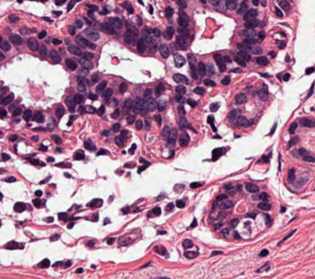nucleus: (143, 28, 156, 51), (75, 35, 95, 48), (278, 229, 295, 244), (124, 28, 137, 44), (213, 54, 225, 71), (132, 98, 144, 112), (233, 115, 248, 126), (239, 28, 255, 38), (122, 98, 132, 114), (167, 128, 177, 144), (228, 108, 240, 121), (174, 53, 185, 67), (79, 58, 93, 69), (145, 97, 156, 111), (65, 96, 75, 111), (49, 50, 61, 62), (178, 117, 190, 129), (237, 50, 250, 61), (85, 30, 99, 40), (176, 35, 186, 49), (173, 73, 187, 83), (207, 116, 216, 131), (164, 26, 174, 39), (159, 44, 169, 57), (237, 42, 251, 51), (68, 46, 82, 55), (258, 86, 267, 100), (300, 118, 314, 127), (234, 55, 245, 66), (65, 59, 76, 70), (84, 139, 95, 150), (28, 38, 38, 50), (137, 38, 145, 53), (87, 199, 102, 207), (220, 199, 232, 209), (179, 133, 188, 146), (245, 183, 258, 192), (197, 62, 205, 76), (190, 64, 198, 78), (96, 81, 106, 92), (235, 93, 246, 103), (287, 137, 298, 147), (256, 56, 268, 65), (155, 83, 164, 95), (103, 88, 112, 100), (157, 99, 166, 111), (212, 148, 221, 160), (258, 201, 270, 210), (257, 262, 269, 271), (161, 126, 169, 139), (33, 112, 43, 122), (55, 106, 64, 117), (38, 258, 49, 267), (250, 46, 262, 54), (154, 246, 166, 254), (48, 117, 55, 130), (175, 85, 185, 94), (73, 94, 83, 103), (67, 115, 76, 125), (115, 136, 124, 146), (74, 150, 84, 159), (138, 163, 148, 172), (182, 239, 192, 248), (206, 64, 214, 75), (204, 78, 215, 86), (193, 86, 204, 94), (143, 88, 151, 99), (289, 122, 297, 133), (288, 168, 294, 182), (185, 251, 197, 258), (221, 76, 230, 85), (257, 31, 265, 41), (187, 53, 195, 63), (78, 68, 88, 76), (85, 105, 95, 113), (51, 135, 61, 143), (30, 159, 43, 165), (82, 52, 93, 59), (178, 105, 185, 116), (269, 123, 276, 134), (152, 28, 160, 37), (243, 38, 255, 44), (77, 82, 85, 91), (187, 98, 196, 106), (210, 103, 219, 111), (111, 109, 119, 118), (126, 115, 135, 123), (58, 212, 67, 220), (230, 218, 238, 227), (39, 45, 46, 55), (119, 83, 126, 93), (97, 105, 104, 115), (154, 114, 161, 124), (135, 119, 142, 129), (56, 162, 70, 167), (96, 149, 107, 155), (308, 83, 313, 96), (38, 30, 46, 38), (175, 94, 183, 102), (112, 123, 120, 131), (152, 207, 160, 215), (91, 74, 98, 83), (88, 93, 97, 100), (129, 144, 136, 153), (33, 198, 40, 207), (216, 194, 226, 200), (264, 215, 270, 225), (119, 238, 129, 244), (305, 67, 313, 74), (298, 148, 306, 155), (259, 192, 267, 199), (176, 200, 184, 207), (259, 249, 267, 256), (303, 156, 314, 161), (190, 182, 201, 187), (52, 38, 61, 44), (40, 177, 49, 183), (224, 184, 233, 190), (190, 218, 196, 227), (50, 234, 59, 240), (120, 130, 127, 137), (166, 203, 172, 211), (246, 213, 255, 218), (211, 251, 222, 255), (279, 41, 285, 48), (223, 56, 230, 62), (283, 73, 289, 80), (78, 105, 84, 112), (35, 190, 42, 196), (122, 206, 128, 213), (221, 229, 227, 236), (107, 238, 114, 244), (75, 267, 82, 273), (145, 120, 149, 129), (262, 156, 268, 162), (233, 232, 239, 238), (102, 130, 109, 135), (39, 145, 46, 150), (65, 260, 70, 267), (45, 217, 53, 221), (32, 135, 37, 141), (280, 206, 285, 212), (92, 214, 97, 220), (68, 222, 73, 228), (158, 230, 165, 234), (231, 69, 240, 72), (285, 55, 289, 61), (47, 157, 53, 161), (64, 173, 70, 177), (261, 73, 268, 76), (54, 262, 61, 265), (215, 224, 220, 228), (87, 242, 92, 246), (214, 135, 220, 138), (65, 39, 69, 43), (270, 52, 274, 55)
